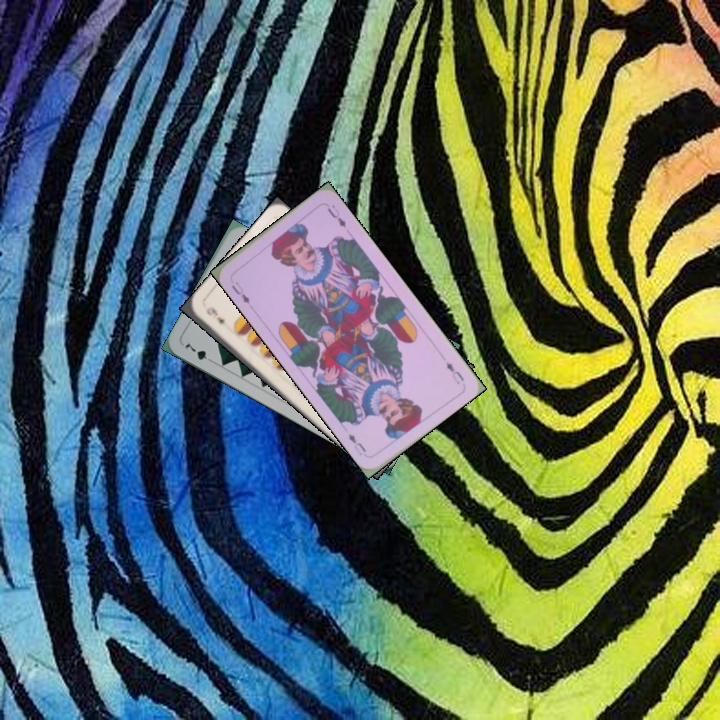E9: (202, 303, 228, 327)
EU: (227, 278, 253, 307), (442, 358, 467, 387)
G7: (180, 340, 217, 366)
